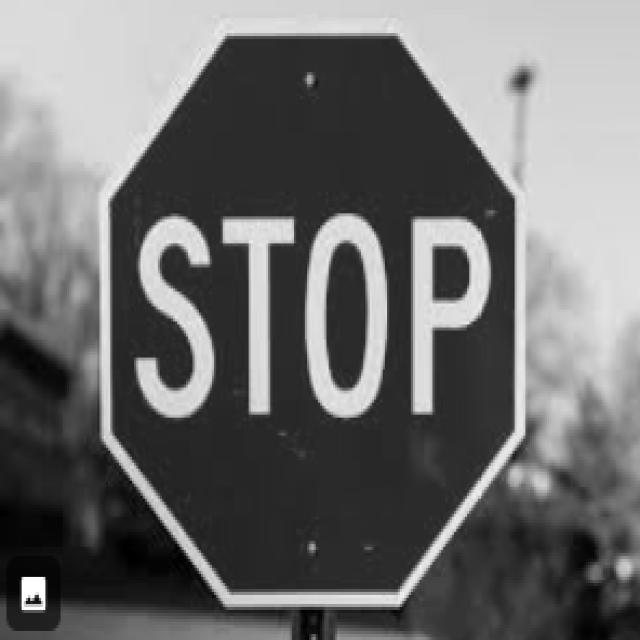Stop-signs: (101, 20, 526, 609)
